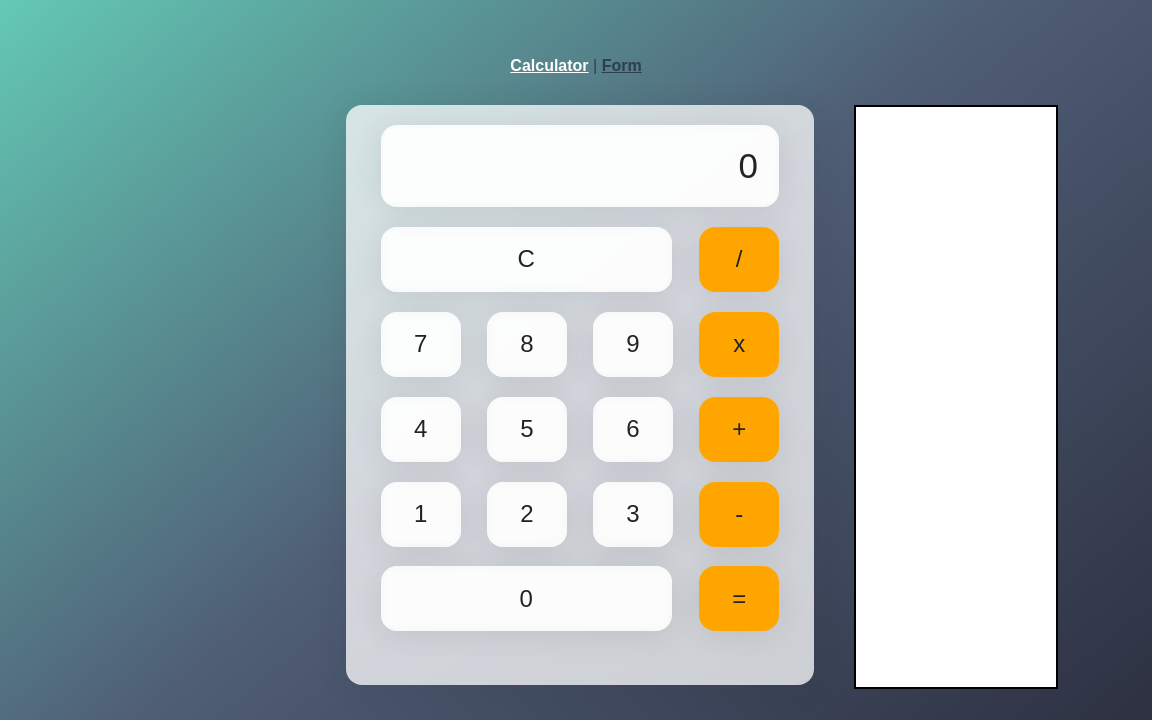
Scenario: calculator › subtracts two numbers
Click the button "5" at (527, 430), box [487, 397, 567, 462]
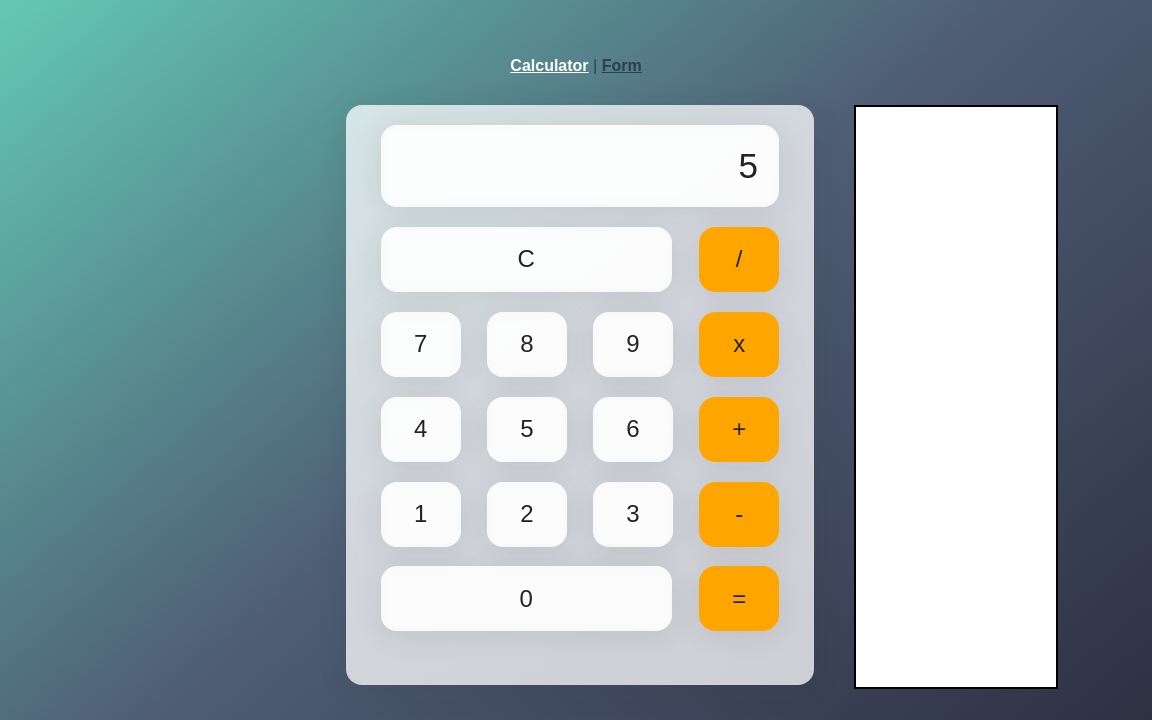
Click the button "-" at (739, 515), box [699, 482, 779, 547]
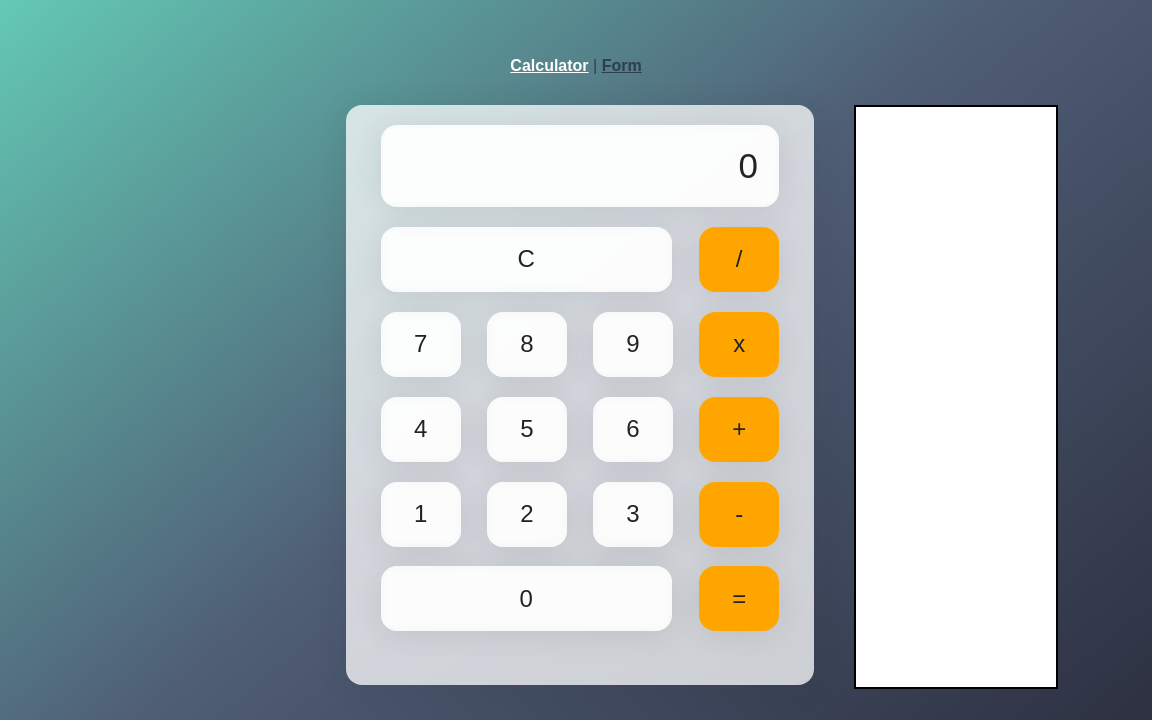
Click the button "3" at (633, 515), box [593, 482, 673, 547]
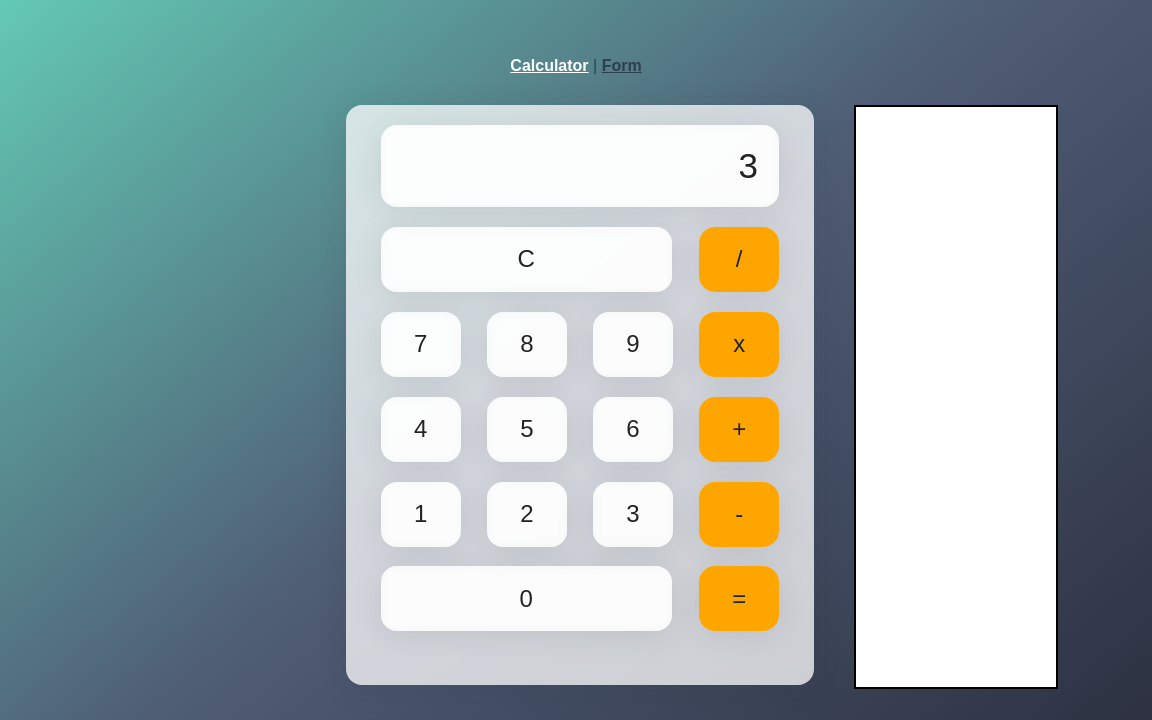
Click the button "=" at (739, 600), box [699, 567, 779, 632]
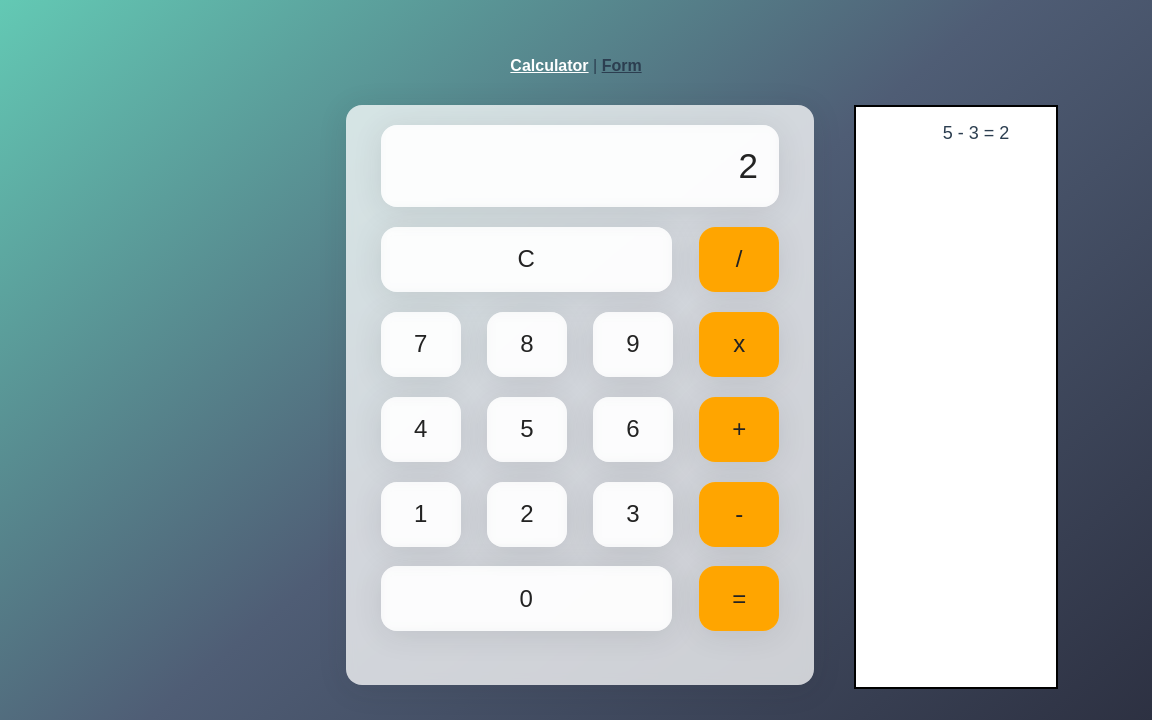
Result: the text "2" is shown at [381, 125, 779, 207]
